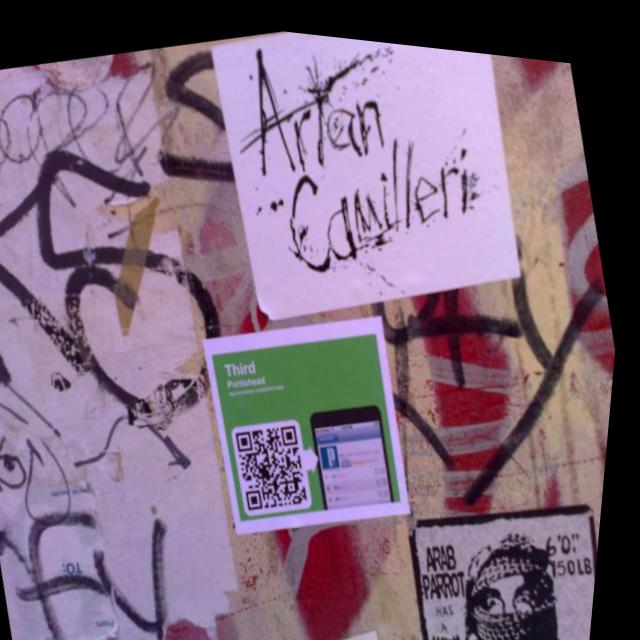qrcode: (239, 414, 321, 509)
